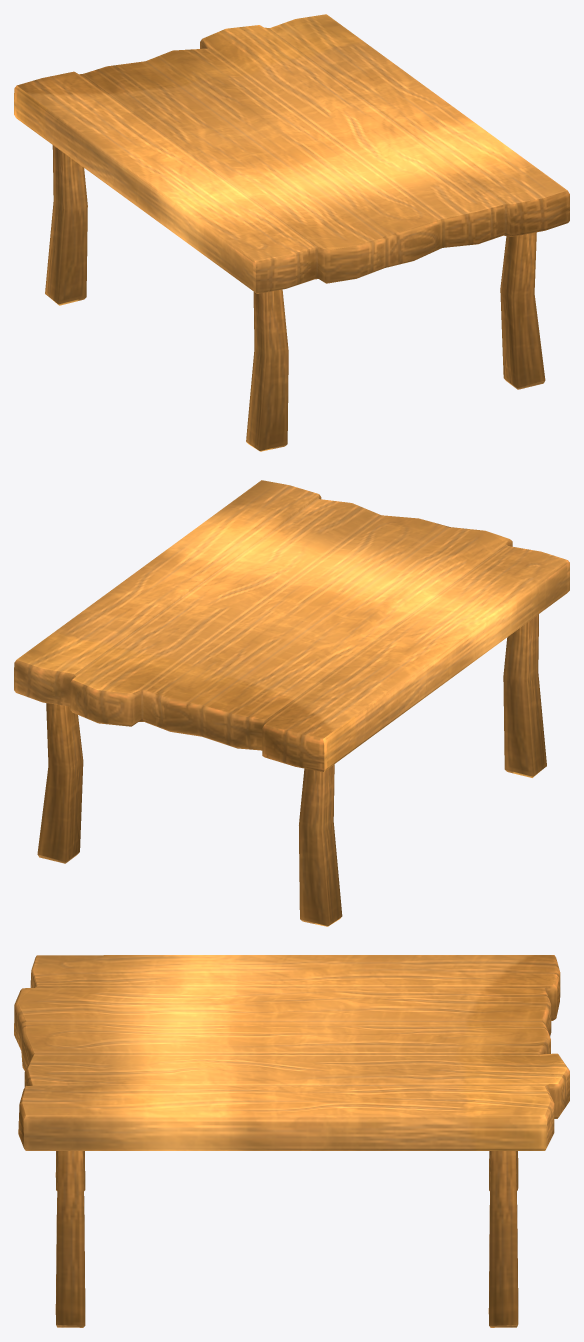
File: SM_Stylized_Table_D.fbx
The picture shows the model from 3 angles, top to bottom: view 1: azimuth 30°, elevation 25°; view 2: azimuth 150°, elevation 25°; view 3: azimuth 270°, elevation 25°; orthographic projection. The views are drawn at different scales.
Parts seen in each view (by area): view 1: SM_Stylized_Table_D_LOD0; view 2: SM_Stylized_Table_D_LOD0; view 3: SM_Stylized_Table_D_LOD0.
Boxes of the visible parts, <box> form: SM_Stylized_Table_D_LOD0: <box>14,14,569,451</box>; SM_Stylized_Table_D_LOD0: <box>14,480,569,926</box>; SM_Stylized_Table_D_LOD0: <box>14,955,569,1327</box>.
Size of the model in its own units: 149 by 216 by 93.31.
